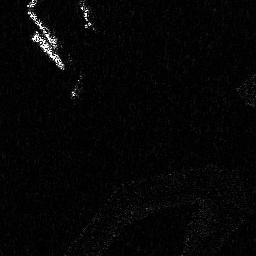ship: (31, 31, 64, 72)
